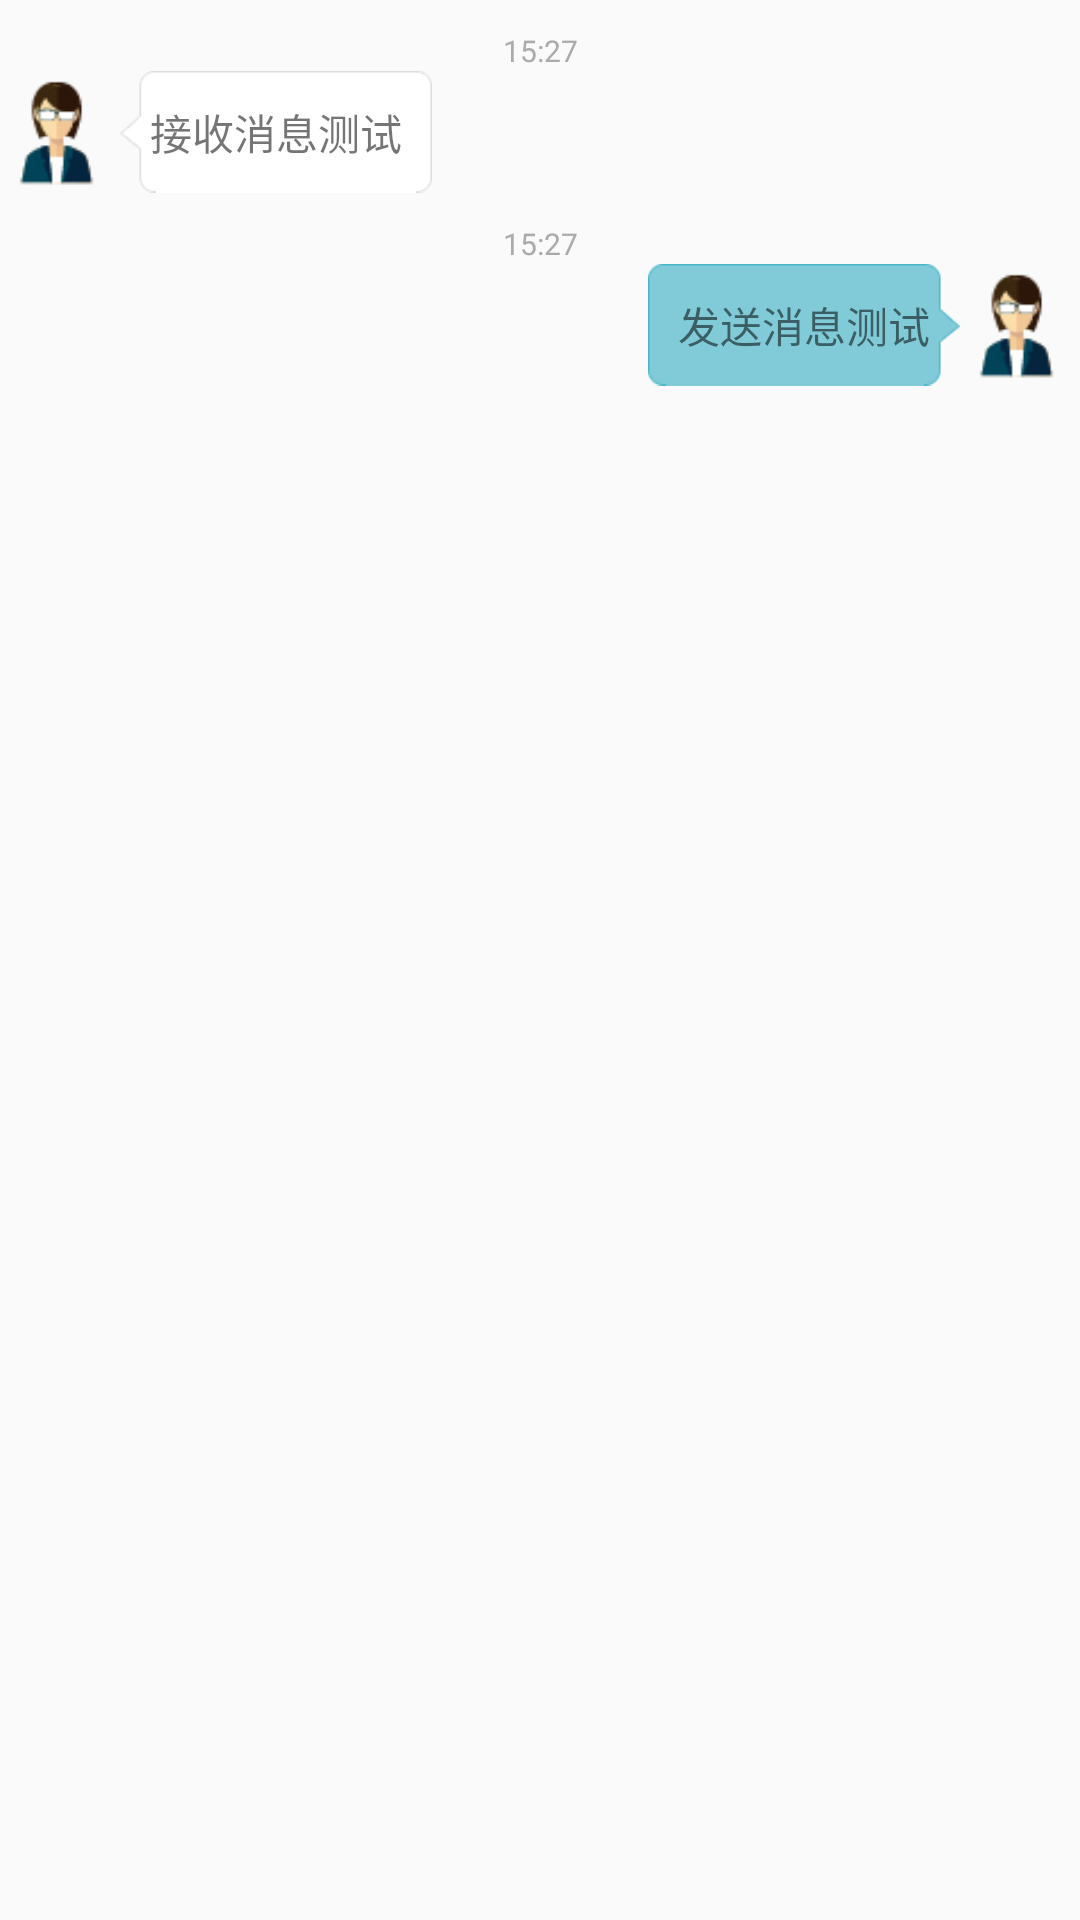

Icon bounding boxes for this 1080w x 1920h phone screenshot, format (x1, y1, x2, y2):
head: (20, 81, 93, 185), (980, 274, 1053, 378)
